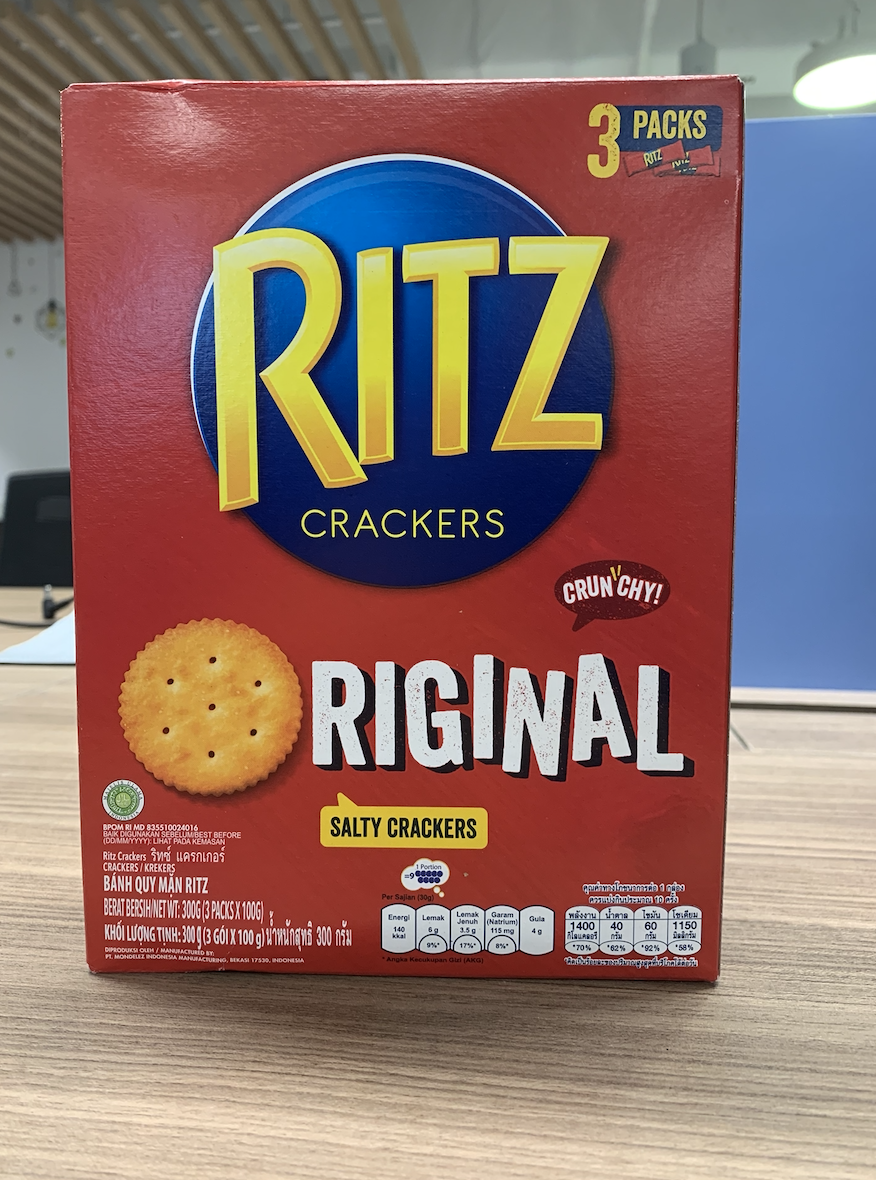crackers_450g: (101, 97, 718, 968)
